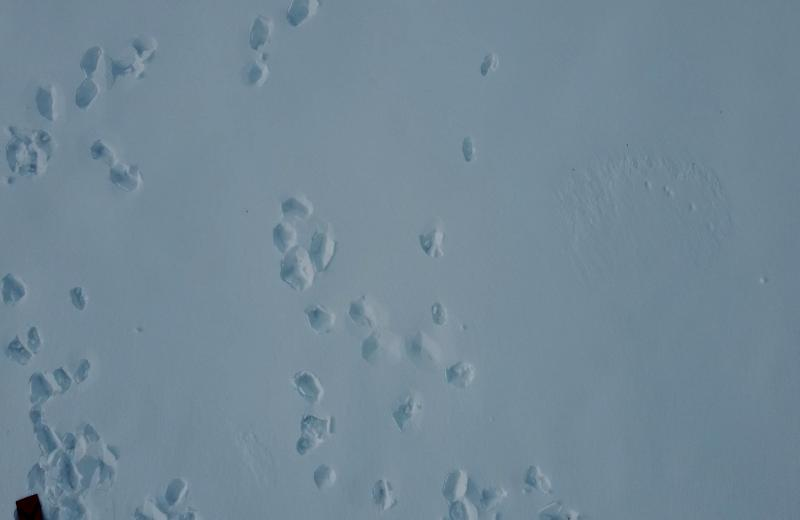Rectangle: (13, 491, 47, 520)
